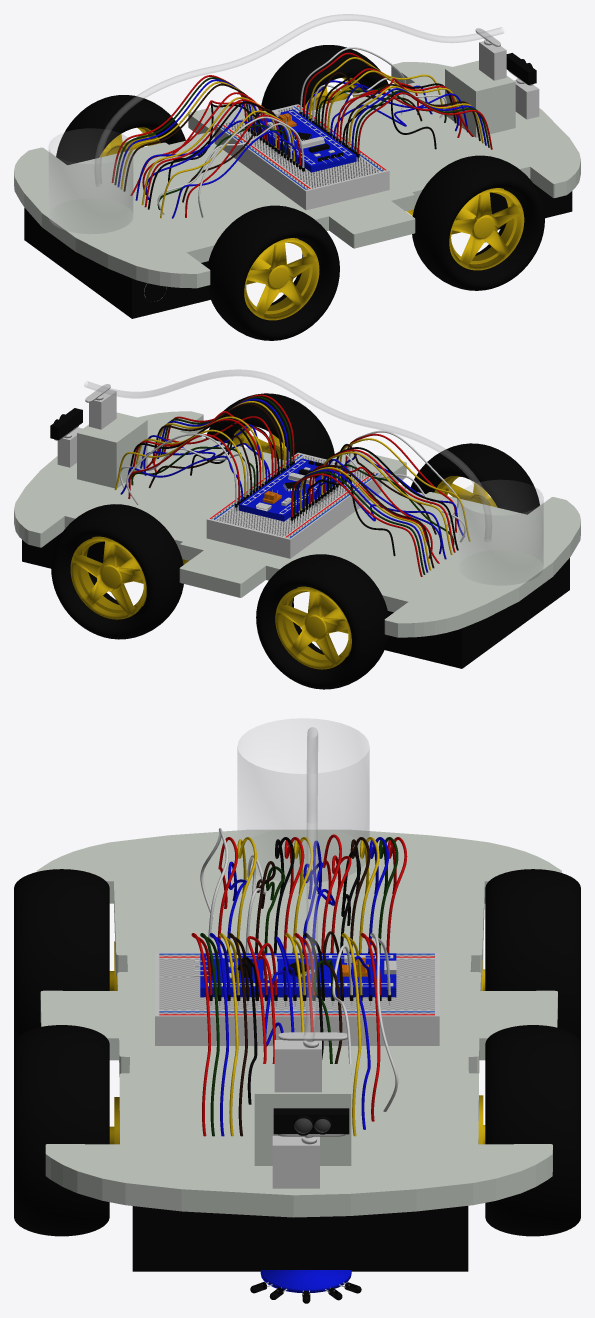
The model's file is car_project.obj.
3 views of the same model, one above another, from view 1: azimuth 30°, elevation 25°; view 2: azimuth 150°, elevation 25°; view 3: azimuth 270°, elevation 25° (orthographic). The views are drawn at different scales.
Parts seen in each view (by area): view 1: body_Mesh, tire.002_Torus.002, tire.003_Torus.003, board_Cube.008, cup_Cylinder.001, battery_12v_Cube.007, tire.001_Torus.001, tire_Torus, wheel.002_Circle.009, wheel.004_Circle.010, box_servo_pump_Cube.049, NurbsPath.040 (+27 smaller); view 2: body_Mesh, tire_Torus, tire.001_Torus.001, board_Cube.008, cup_Cylinder.001, battery_12v_Cube.007, tire.003_Torus.003, wheel.001_Circle.008, wheel.003_Circle.005, box_servo_pump_Cube.049, tire.002_Torus.002, NurbsPath.040 (+22 smaller); view 3: body_Mesh, battery_5v_Cube.005, board_Cube.008, tire.002_Torus.002, tire_Torus, cup_Cylinder.001, tire.003_Torus.003, tire.001_Torus.001, box_servo_pump_Cube.049, NurbsPath.040, servo_lidar_Cube.010, servo_pump_Cube.050 (+10 smaller).
Boxes of the visible parts, <box> form: body_Mesh: <box>14,62,580,288</box>; tire.002_Torus.002: <box>412,155,544,290</box>; tire.003_Torus.003: <box>207,205,339,340</box>; board_Cube.008: <box>214,104,389,210</box>; cup_Cylinder.001: <box>49,129,132,233</box>; battery_12v_Cube.007: <box>24,208,210,318</box>; tire.001_Torus.001: <box>56,95,185,164</box>; tire_Torus: <box>261,45,388,110</box>; wheel.002_Circle.009: <box>244,238,319,320</box>; wheel.004_Circle.010: <box>449,188,524,270</box>; box_servo_pump_Cube.049: <box>445,60,515,137</box>; NurbsPath.040: <box>94,14,503,186</box>; body_Mesh: <box>14,411,580,637</box>; tire_Torus: <box>51,504,183,639</box>; tire.001_Torus.001: <box>256,554,388,689</box>; board_Cube.008: <box>206,452,381,558</box>; cup_Cylinder.001: <box>459,480,543,584</box>; battery_12v_Cube.007: <box>384,558,569,668</box>; tire.003_Torus.003: <box>410,443,539,514</box>; wheel.001_Circle.008: <box>275,586,351,669</box>; wheel.003_Circle.005: <box>70,536,146,619</box>; box_servo_pump_Cube.049: <box>77,412,147,488</box>; tire.002_Torus.002: <box>205,393,334,459</box>; NurbsPath.040: <box>84,369,491,541</box>; body_Mesh: <box>36,829,561,1217</box>; battery_5v_Cube.005: <box>132,1206,468,1271</box>; board_Cube.008: <box>155,952,439,1045</box>; tire.002_Torus.002: <box>14,1025,109,1236</box>; tire_Torus: <box>485,1025,580,1236</box>; cup_Cylinder.001: <box>237,719,369,882</box>; tire.003_Torus.003: <box>14,869,109,1042</box>; tire.001_Torus.001: <box>485,869,580,1042</box>; box_servo_pump_Cube.049: <box>254,1064,351,1165</box>; NurbsPath.040: <box>304,727,317,1043</box>; servo_lidar_Cube.010: <box>272,1136,319,1188</box>; servo_pump_Cube.050: <box>274,1040,321,1092</box>.
Bounding box in the file's own units: 0.4774 × 0.2062 × 0.3001.
